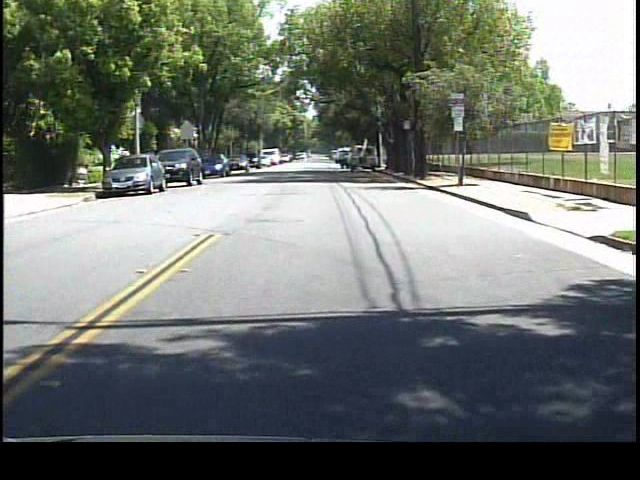person: (335, 147, 351, 173)
